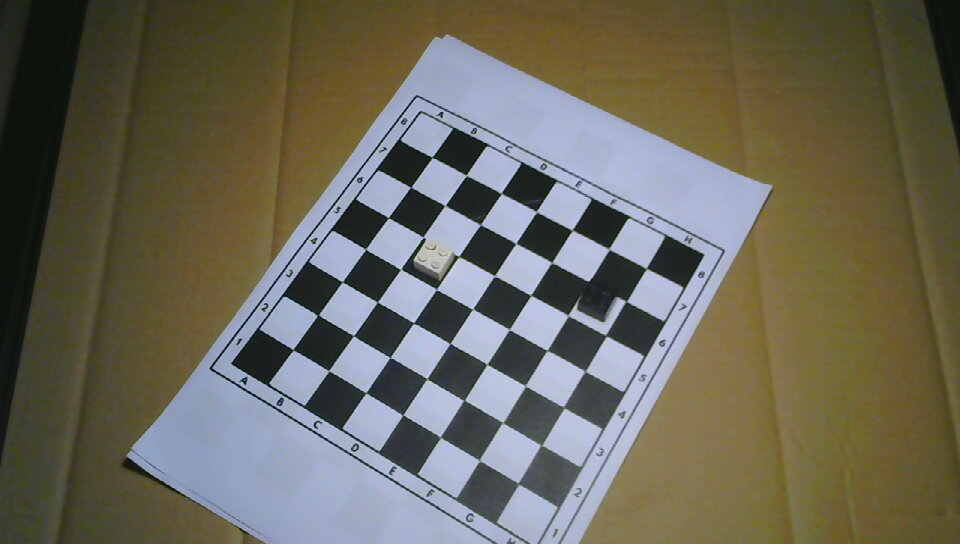bp: (577, 280, 618, 323)
wp: (412, 238, 455, 282)
